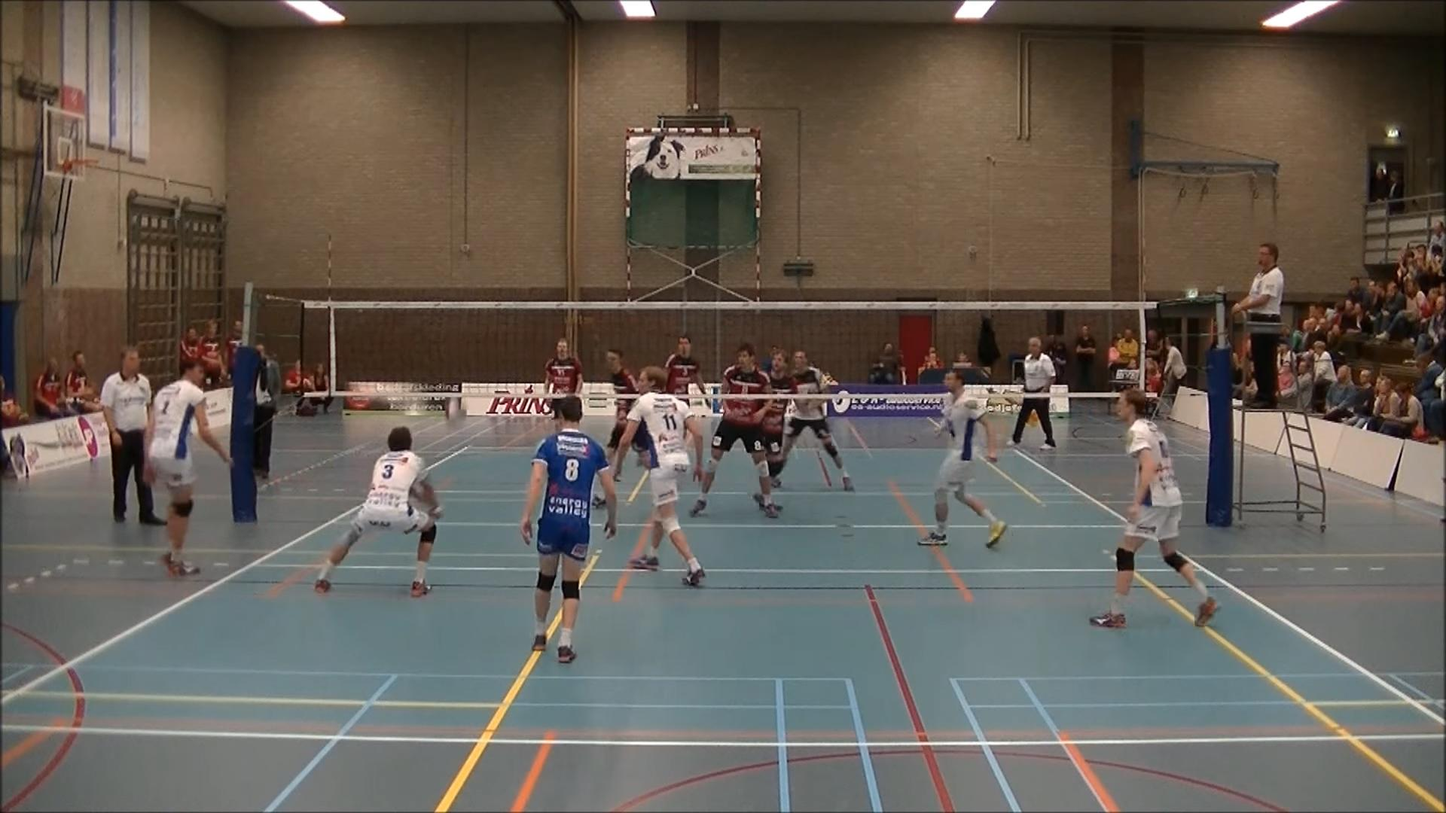ricezione: (310, 418, 443, 598)
